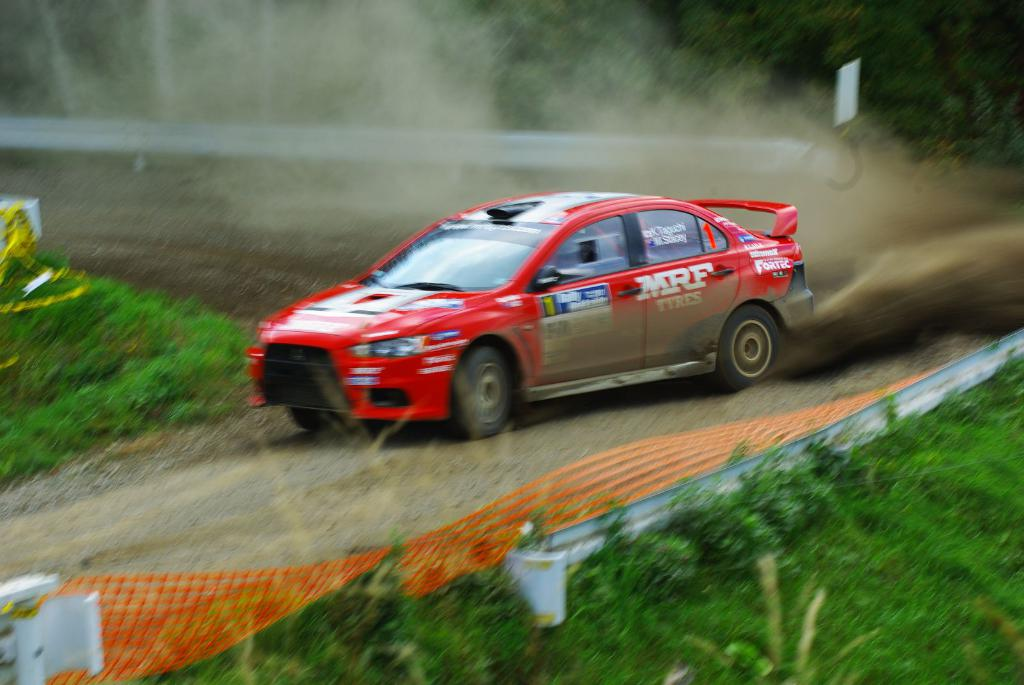Car: (253, 189, 819, 455)
